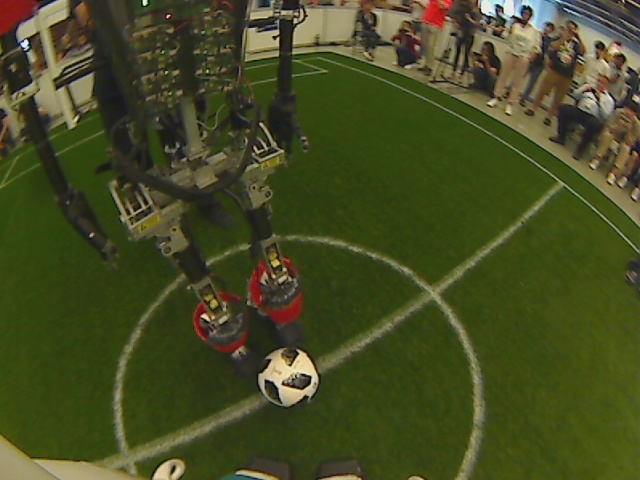ball: (255, 344, 324, 409)
